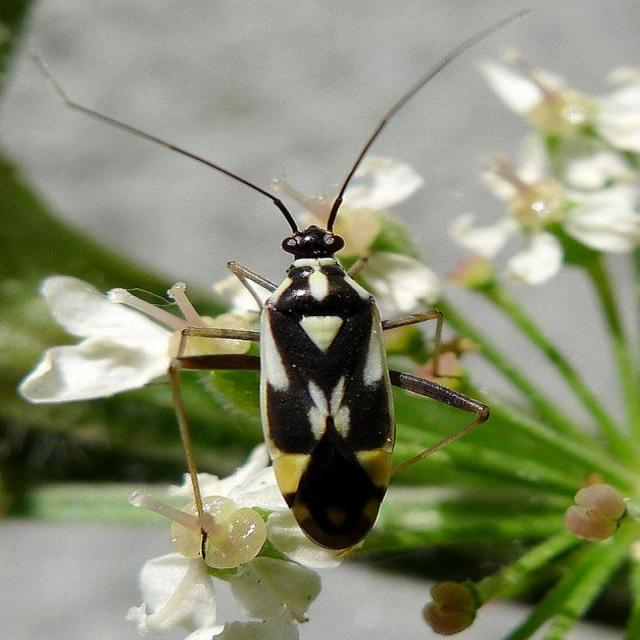Miridae-Adult-: (69, 11, 526, 552)
